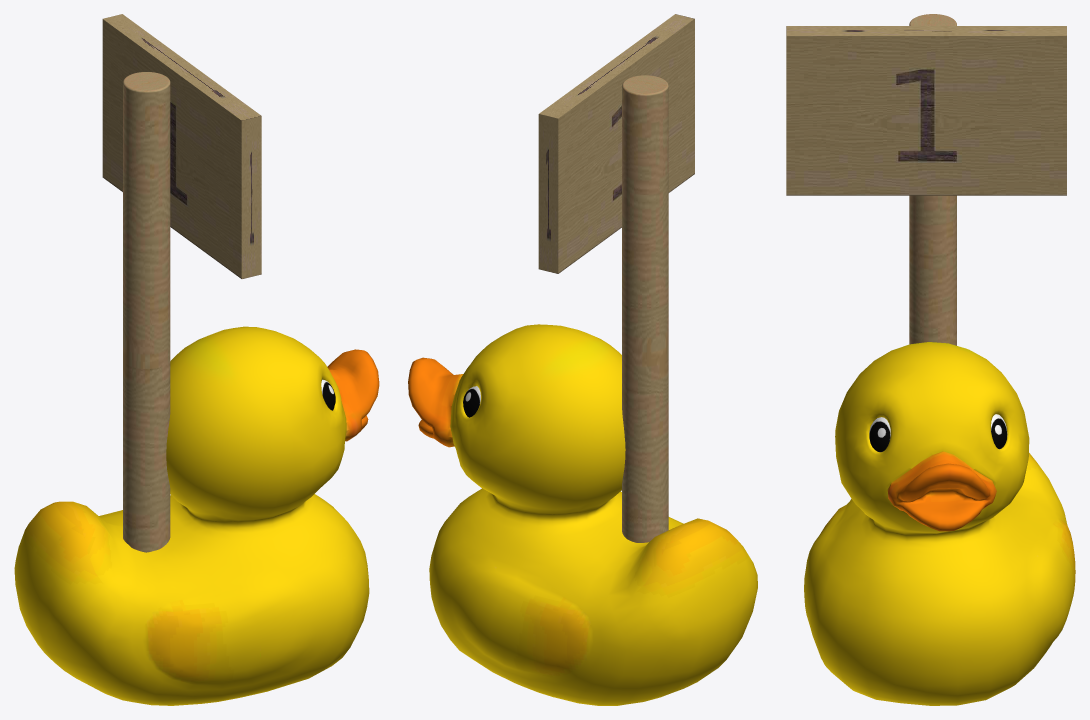
The model's file is duck_1.glb.
The picture shows the model from 3 angles, left to right: view 1: azimuth 30°, elevation 25°; view 2: azimuth 150°, elevation 25°; view 3: azimuth 270°, elevation 25°; orthographic projection. The views are drawn at different scales.
Parts seen in each view (by area): view 1: LOD3spShape, Cylinder, Box; view 2: LOD3spShape, Cylinder, Box; view 3: LOD3spShape, Box, Cylinder.
Boxes of the visible parts, x1,y1,x2,y2 form: LOD3spShape: (14,326,379,705); Cylinder: (123,72,170,552); Box: (102,14,261,278); LOD3spShape: (408,324,757,705); Cylinder: (622,75,668,542); Box: (538,14,694,273); LOD3spShape: (804,342,1075,705); Box: (786,26,1066,195); Cylinder: (909,14,956,345).
Size of the model in its own units: 1.66 by 2.92 by 1.25.
Materials: 3 (3 with a texture image).
